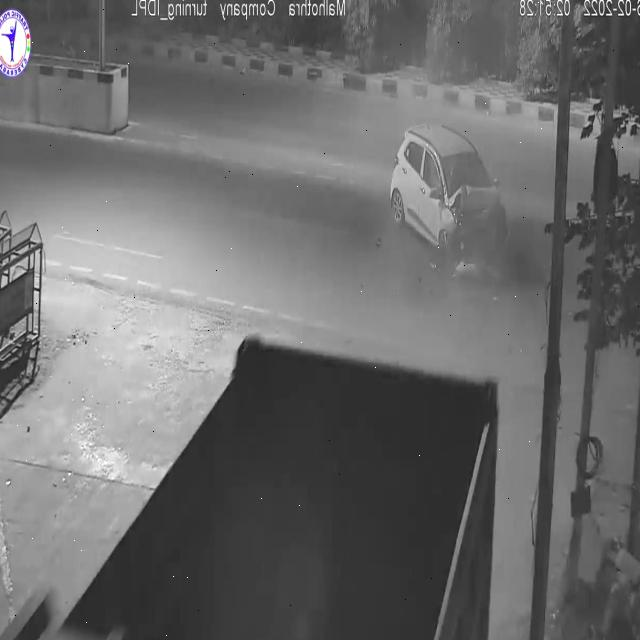accident: (383, 109, 517, 279)
